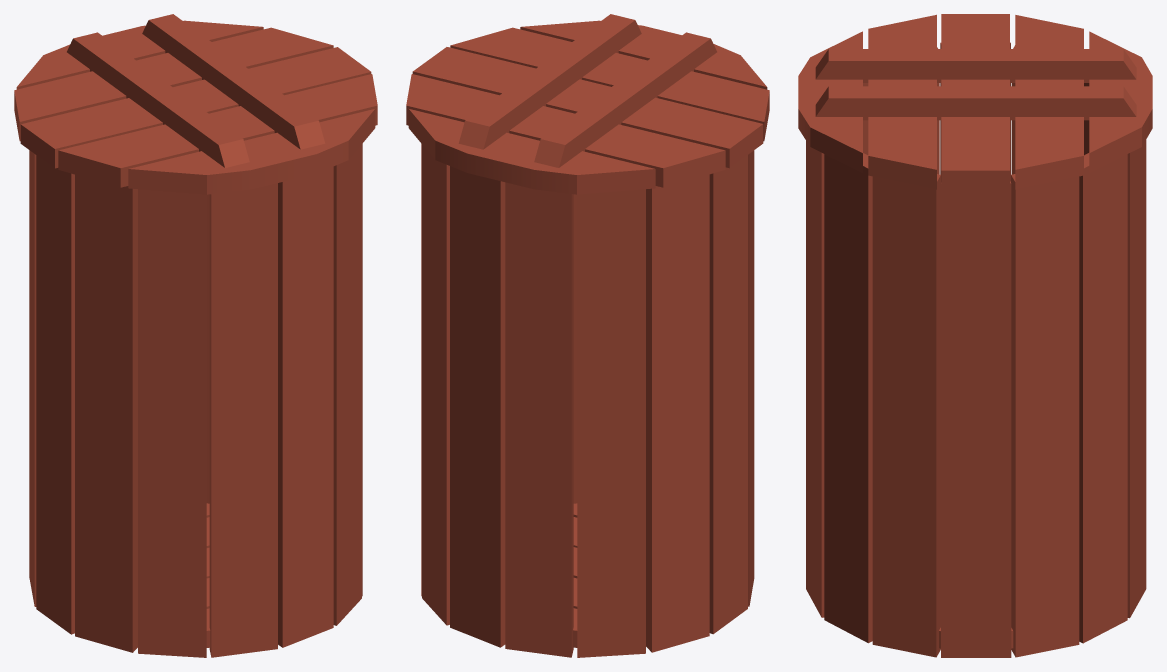
Rendered from SM_barrel_01.fbx.
3 views of the same model, side by side, from view 1: azimuth 30°, elevation 25°; view 2: azimuth 150°, elevation 25°; view 3: azimuth 270°, elevation 25° (orthographic).
Visible parts, largest first — view 1: Box316; view 2: Box316; view 3: Box316.
Boxes of the visible parts, left/top/right/bottom form: Box316: left=14, top=14, right=377, bottom=657; Box316: left=406, top=14, right=769, bottom=657; Box316: left=798, top=14, right=1152, bottom=657.
Size of the model in its own units: 27.51 by 42.09 by 26.29.
